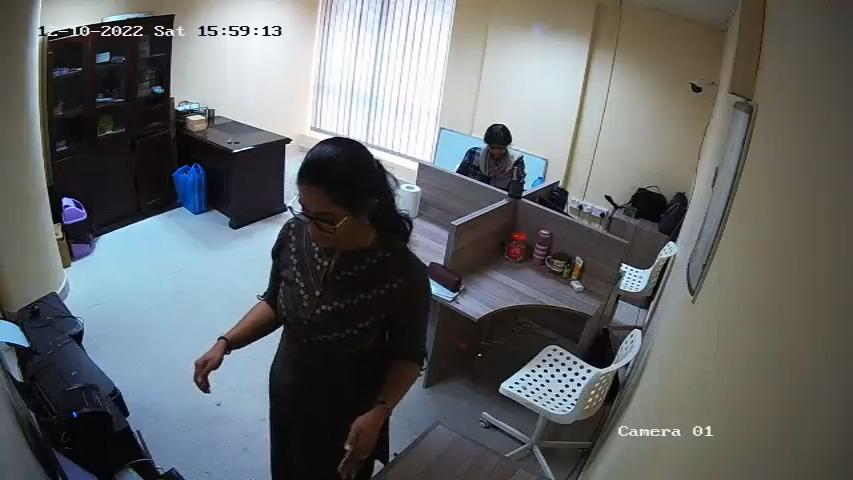no_gloves: (337, 411, 388, 474), (189, 341, 226, 397)
